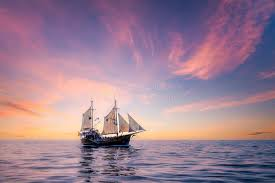boat: (76, 98, 147, 148)
